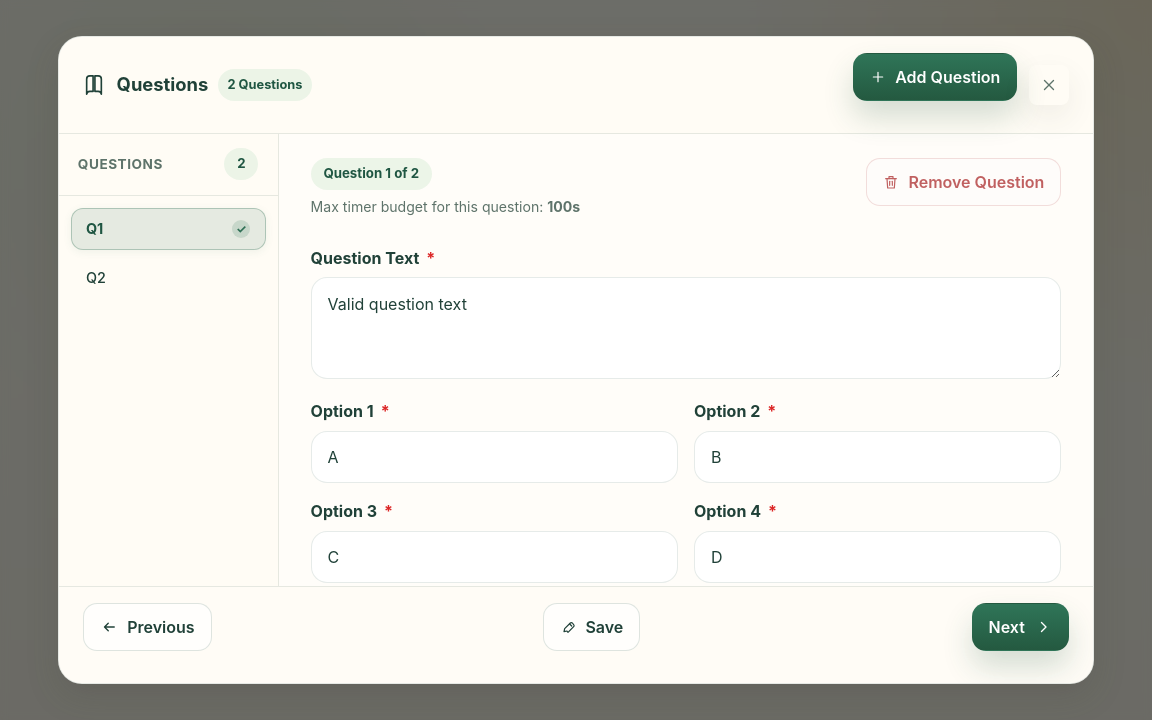
Question Management Workspace › displays validation summary banner on full quiz save failure and jumps to question on click
This screenshot has width=1152, height=720.
Click the button "Save" at (592, 627), box [543,603,640,651]
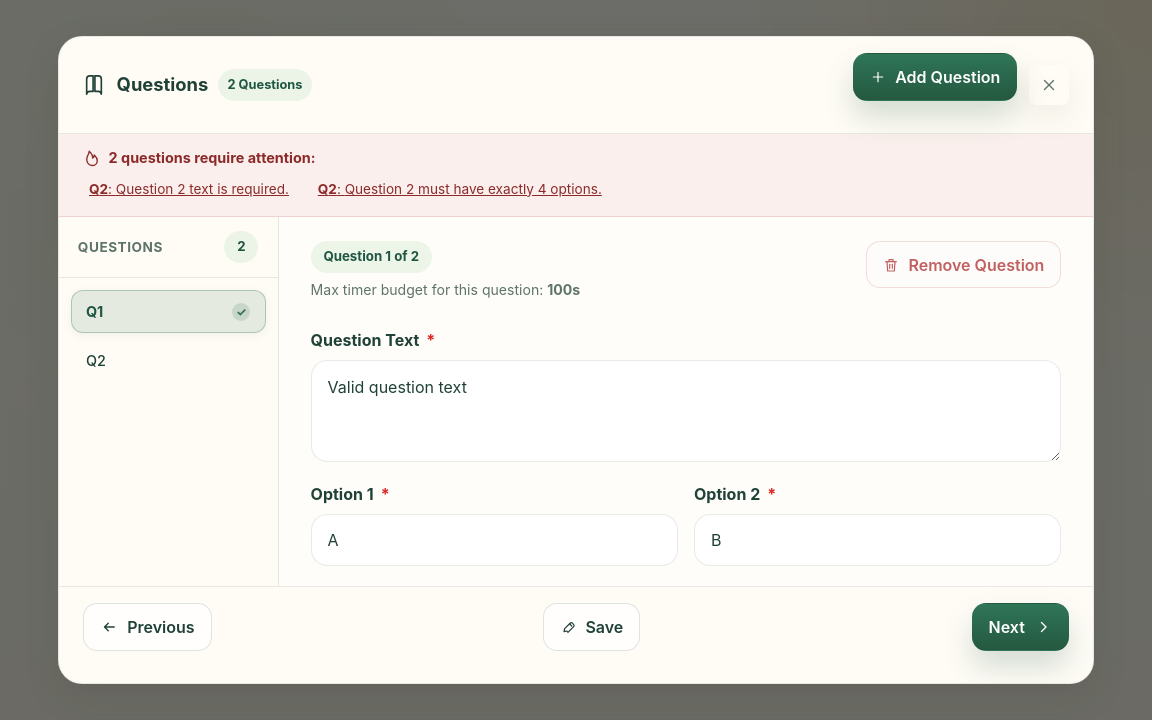
Result: the text "2 questions require attention:" is shown at [109,147,316,169]
Clicking the jump button switches to Q2
Click the button "Q2: Question 2 text is required." at (189, 189), box [83,175,295,202]
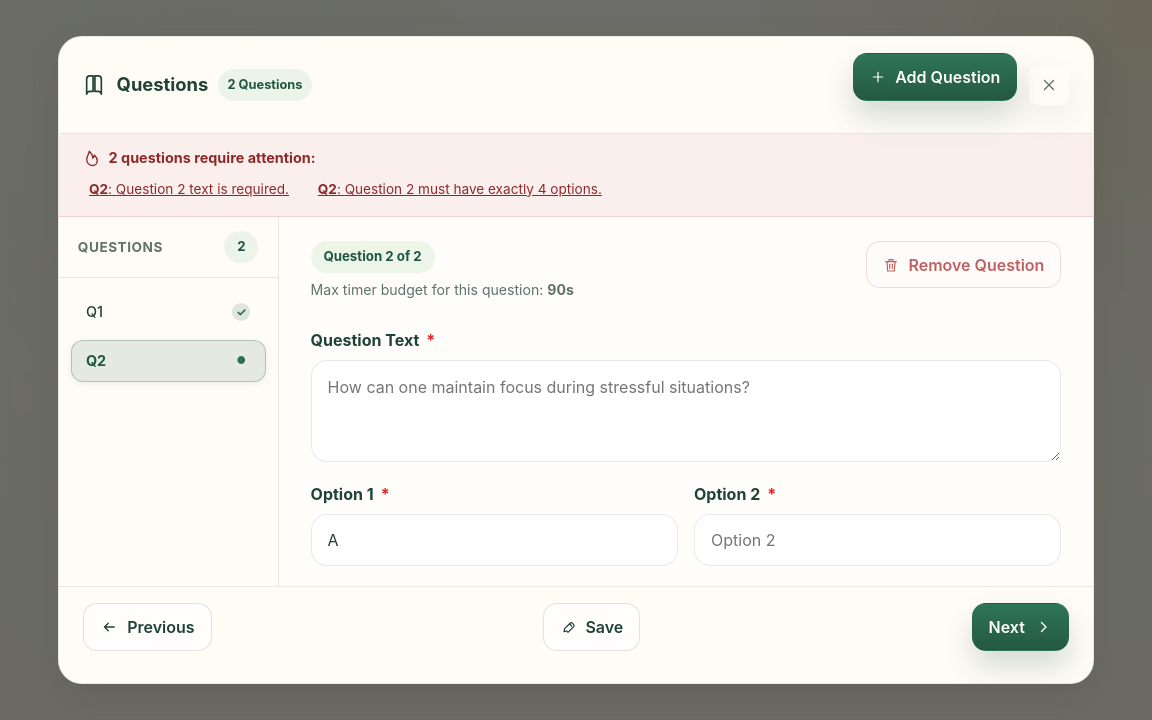
Result: the text "Question 2 of 2" is shown at [311,241,434,273]
